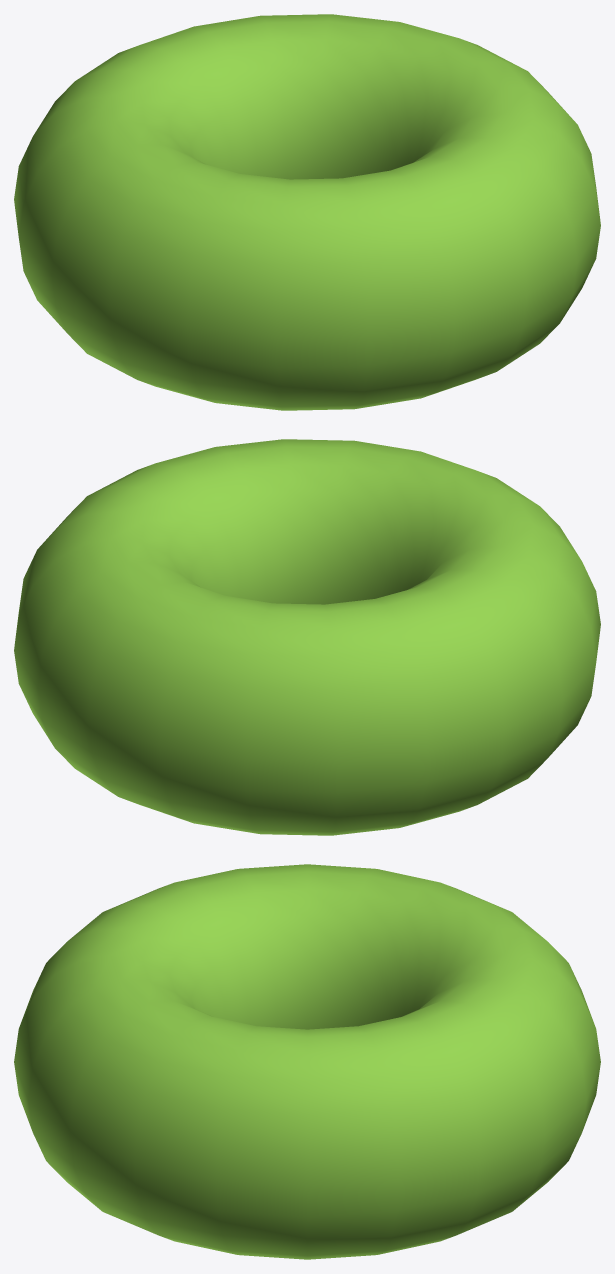
The model's file is Toroide2.obj.
The picture shows the model from 3 angles, top to bottom: view 1: azimuth 30°, elevation 25°; view 2: azimuth 150°, elevation 25°; view 3: azimuth 270°, elevation 25°; orthographic projection.
Parts seen in each view (by area): view 1: toroide2; view 2: toroide2; view 3: toroide2.
Boxes of the visible parts, left/top/right/bottom form: toroide2: left=14, top=14, right=600, bottom=410; toroide2: left=14, top=439, right=600, bottom=835; toroide2: left=14, top=864, right=600, bottom=1259.
Size of the model in its own units: 0.7854 by 0.3175 by 0.7854.
1 material, 1 textured.
